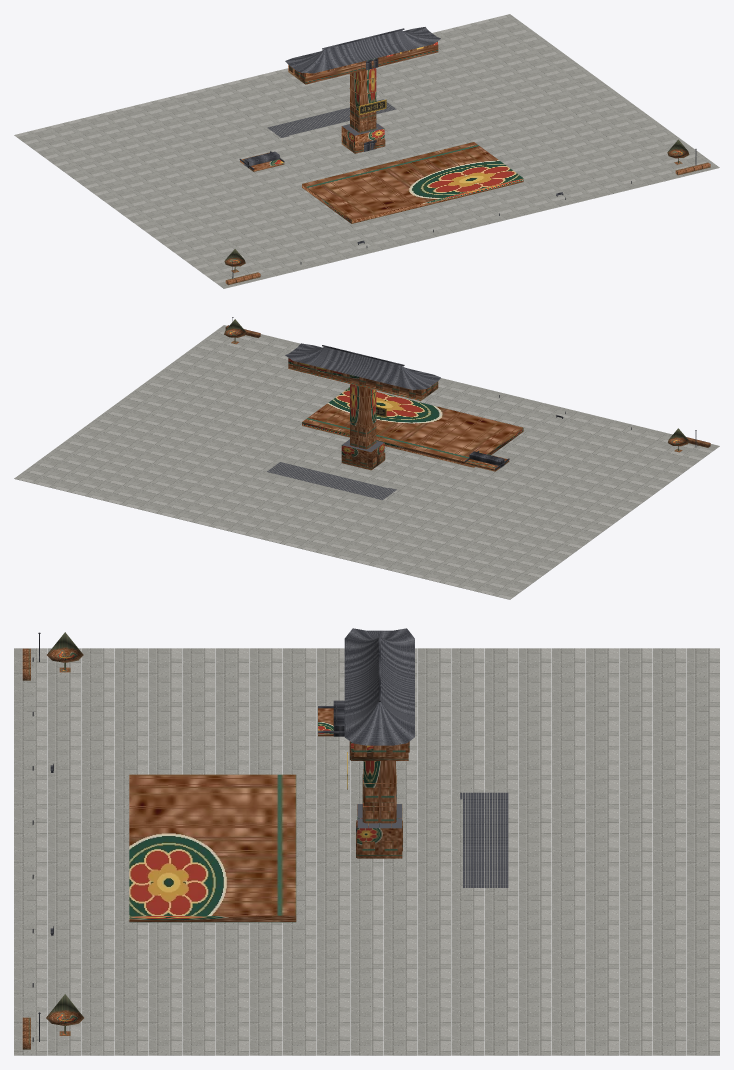
3 views of the same model, one above another, from view 1: azimuth 30°, elevation 25°; view 2: azimuth 150°, elevation 25°; view 3: azimuth 270°, elevation 25° (orthographic). The views are drawn at different scales.
Parts seen in each view (by area): view 1: 11710_01_05540_010_01__plinth_ground_base, 11710_01_05540_010_02__mass_body_facade, 11710_01_05540_010_03__roof_deck_structure, 11710_01_05540_010_06__landscape_greenery, 11710_01_05540_010_03__roof_metal_ornament; view 2: 11710_01_05540_010_01__plinth_ground_base, 11710_01_05540_010_02__mass_body_facade, 11710_01_05540_010_03__roof_deck_structure, 11710_01_05540_010_06__landscape_greenery, 11710_01_05540_010_03__roof_metal_ornament; view 3: 11710_01_05540_010_01__plinth_ground_base, 11710_01_05540_010_02__mass_body_facade, 11710_01_05540_010_03__roof_deck_structure, 11710_01_05540_010_06__landscape_greenery, 11710_01_05540_010_03__roof_metal_ornament.
Boxes of the visible parts, left/top/right/bottom form: 11710_01_05540_010_01__plinth_ground_base: left=14, top=14, right=719, bottom=288; 11710_01_05540_010_02__mass_body_facade: left=240, top=41, right=523, bottom=223; 11710_01_05540_010_03__roof_deck_structure: left=267, top=27, right=440, bottom=137; 11710_01_05540_010_06__landscape_greenery: left=224, top=139, right=710, bottom=285; 11710_01_05540_010_03__roof_metal_ornament: left=239, top=28, right=404, bottom=169; 11710_01_05540_010_01__plinth_ground_base: left=14, top=325, right=719, bottom=599; 11710_01_05540_010_02__mass_body_facade: left=288, top=358, right=523, bottom=471; 11710_01_05540_010_03__roof_deck_structure: left=267, top=343, right=440, bottom=499; 11710_01_05540_010_06__landscape_greenery: left=224, top=319, right=710, bottom=452; 11710_01_05540_010_03__roof_metal_ornament: left=322, top=345, right=509, bottom=469; 11710_01_05540_010_01__plinth_ground_base: left=14, top=648, right=719, bottom=1055; 11710_01_05540_010_02__mass_body_facade: left=129, top=708, right=409, bottom=922; 11710_01_05540_010_03__roof_deck_structure: left=344, top=628, right=508, bottom=887; 11710_01_05540_010_06__landscape_greenery: left=22, top=632, right=83, bottom=1049; 11710_01_05540_010_03__roof_metal_ornament: left=318, top=633, right=380, bottom=736.
Size of the model in its own units: 150 by 31.85 by 110.
Materials: 7 (7 with a texture image).
